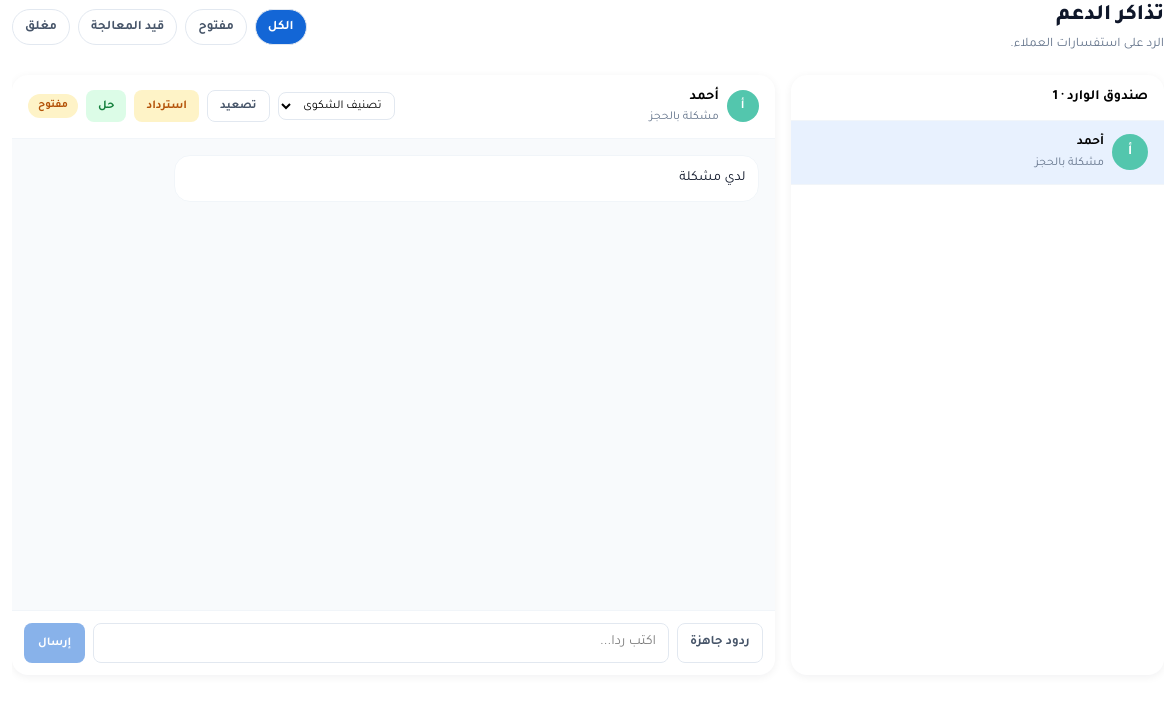
Test: Support page (refund is confirm-gated) › validates that the refund amount must be greater than 0
The width and height of the screenshot is (1176, 720).
Expected: the text "أحمد" below "صندوق الوارد ·" is shown, [1077,136,1104,148]
Click the button "استرداد": point(167, 106) [134,90,199,122]
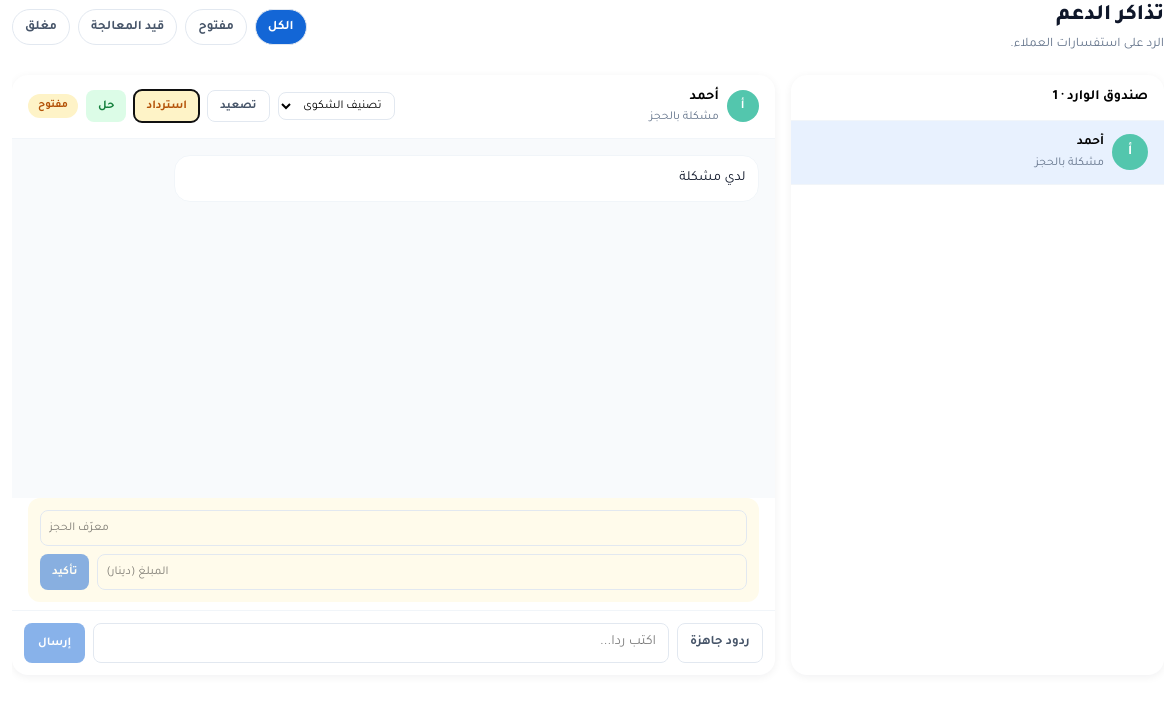
In the field with placeholder "معرّف الحجز": point(393, 528) [40,510,747,546], type "b123"
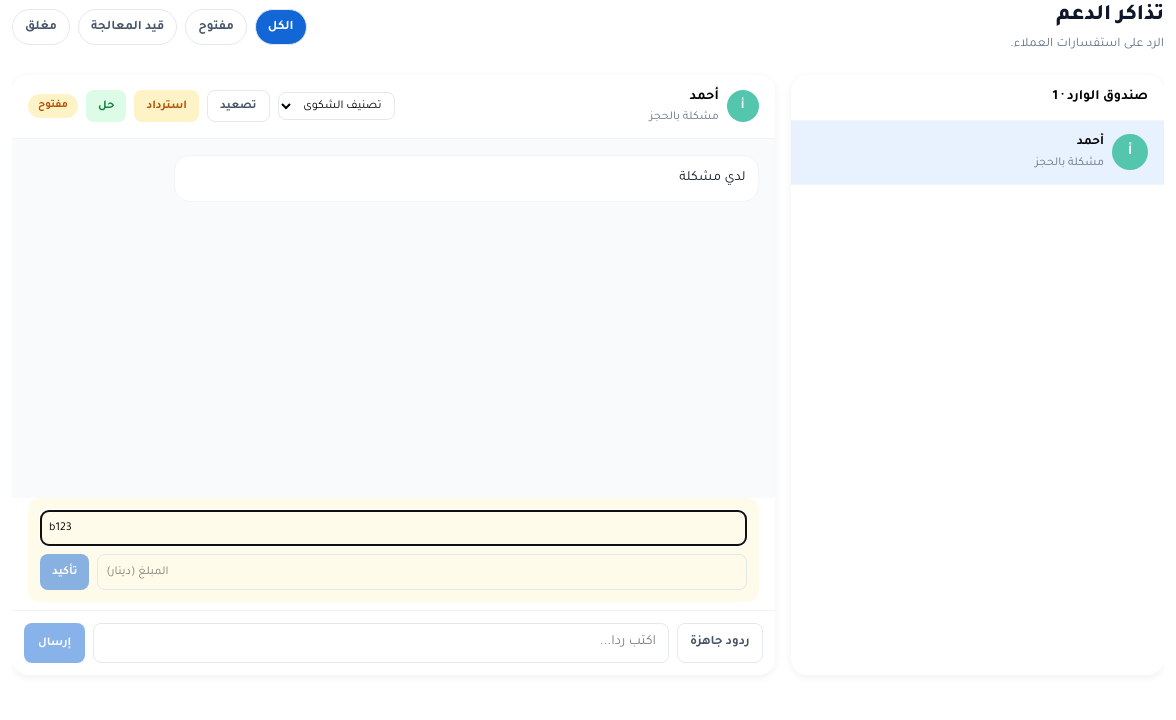
In the field with placeholder "المبلغ (دينار)": point(422, 572) [97,554,747,590], type "0"
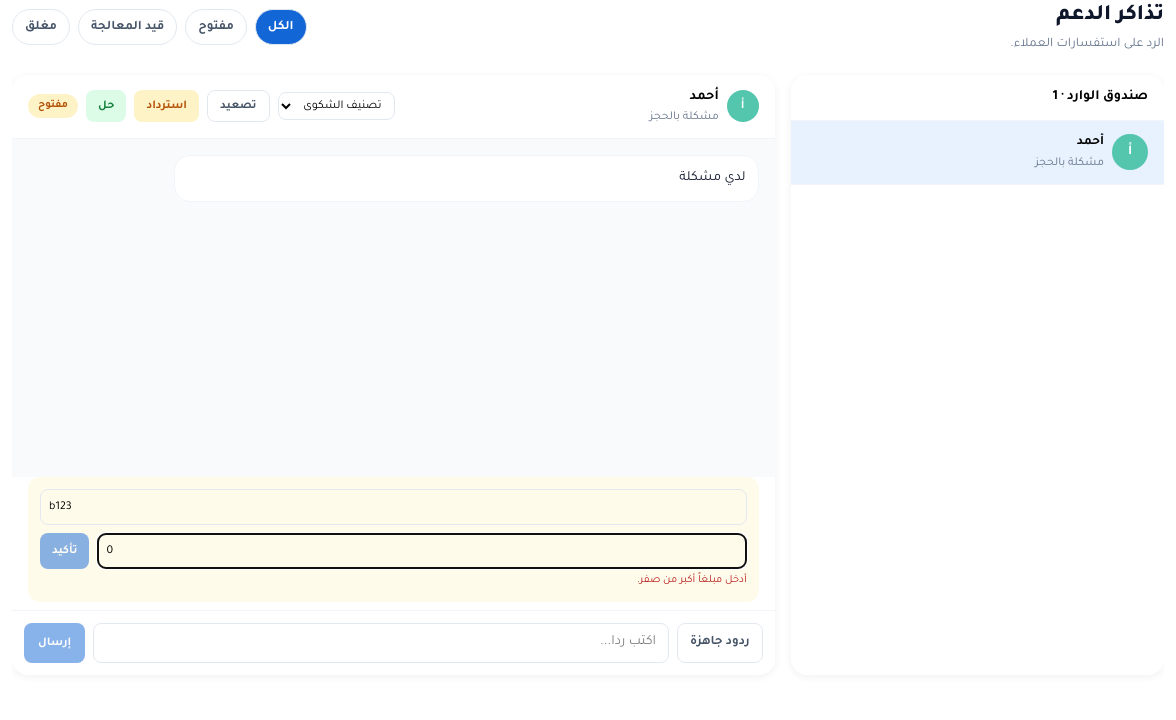
Expected: the button with test id "refund-confirm-btn" is disabled, [40,533,89,569]
Expected: the text "أدخل مبلغاً أكبر من صفر." is shown, [637,575,747,586]
